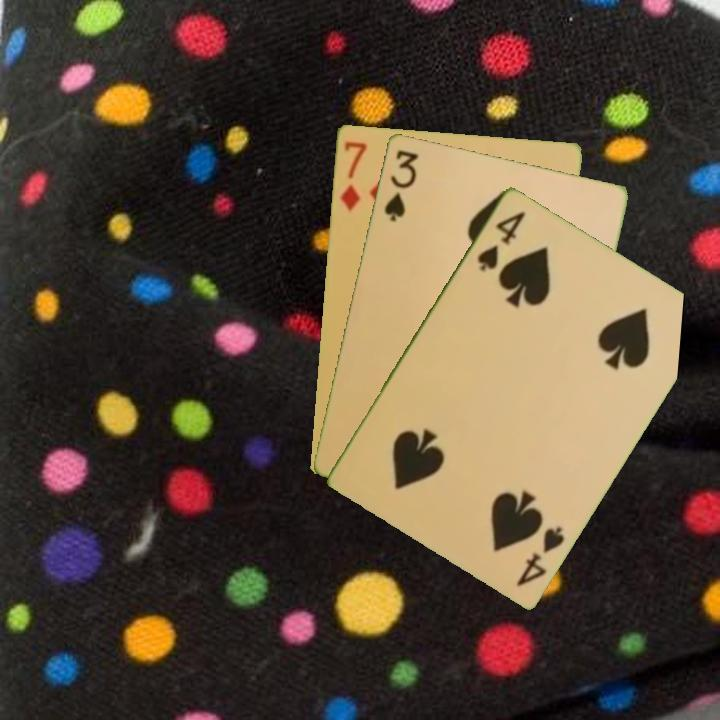3s: (380, 146, 421, 224)
4s: (473, 207, 528, 274), (512, 522, 567, 589)
7d: (336, 137, 369, 214)
